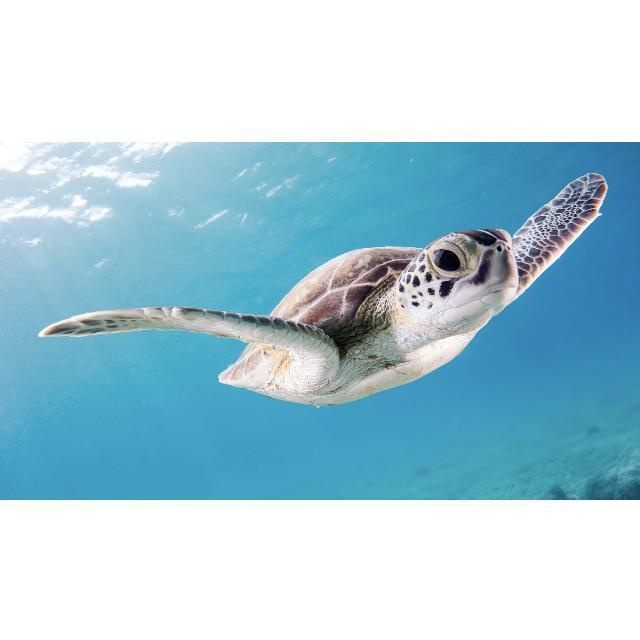turtle: (35, 172, 610, 408)
